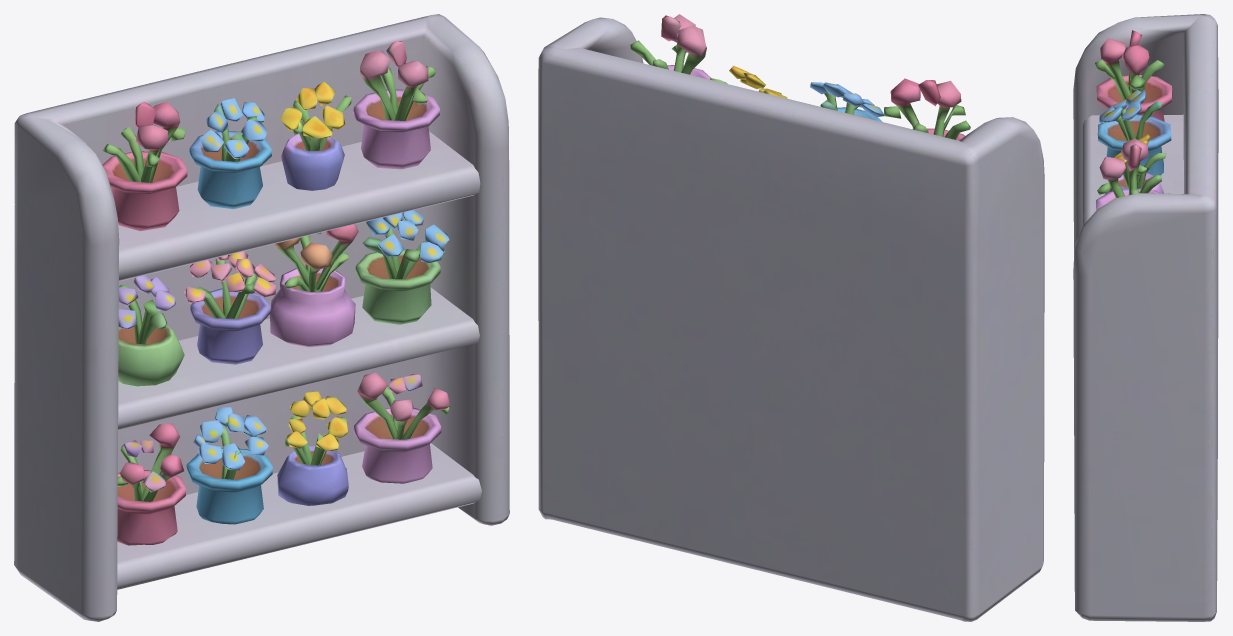
Rendered from flower-shelf.glb.
3 views of the same model, side by side, from view 1: azimuth 30°, elevation 25°; view 2: azimuth 150°, elevation 25°; view 3: azimuth 270°, elevation 25° (orthographic). The views are drawn at different scales.
Parts seen in each view (by area): view 1: geometry_0; view 2: geometry_0; view 3: geometry_0.
Boxes of the visible parts, <box> form: geometry_0: <box>14,14,509,621</box>; geometry_0: <box>538,14,1044,621</box>; geometry_0: <box>1073,14,1218,621</box>.
Bounding box in the file's own units: 0.9337 × 1 × 0.2992.
1 material, 1 textured.
